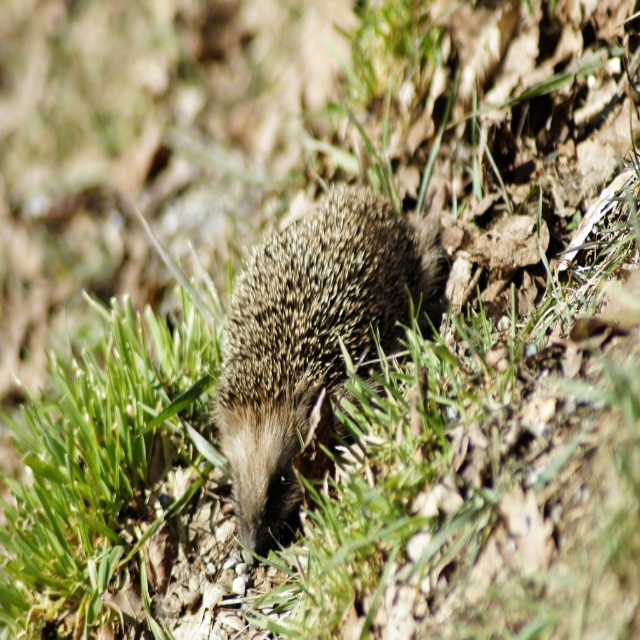Hedgehog: (200, 179, 452, 566)
